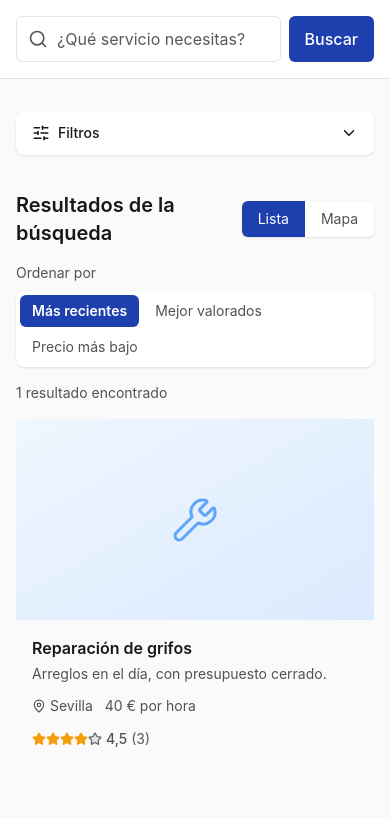
Test: El buscador › en móvil los filtros se despliegan tras un botón que dice si están abiertos
The width and height of the screenshot is (390, 818).
Expected: the heading "Reparación de grifos" is shown, [32, 638, 192, 658]
Step 1. Click the button "Filtros" → (79,132), box [16, 111, 374, 155]
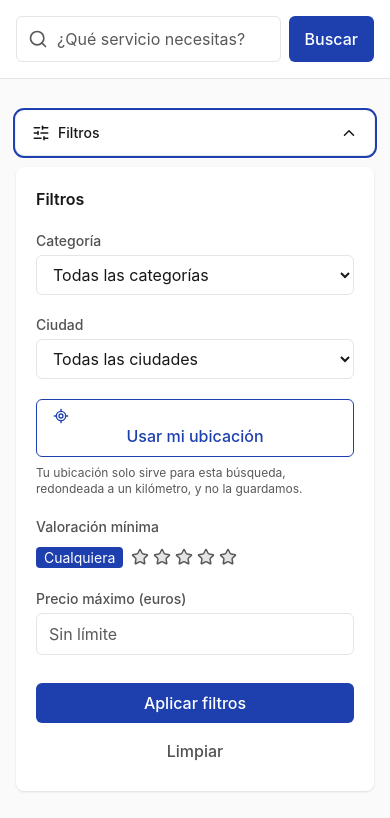
Expected: the button "Filtros" is expanded, [16, 111, 374, 155]
